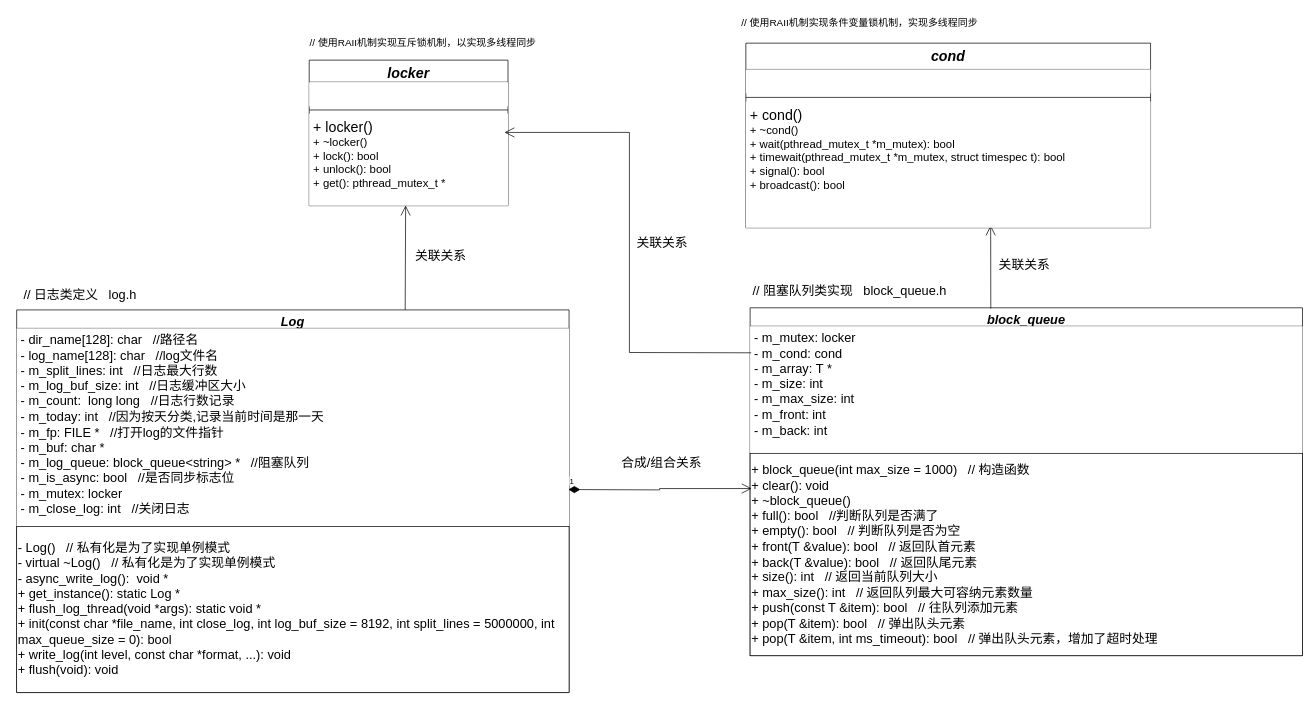
This 1315x705 diagram has some shape labels left out. Here are the shapes that lost their labels. From the top down, the box of each, then its label:
(309, 82, 508, 106): - m_mutex: pthread_mutex_t
(746, 69, 1150, 93): - m_cond: pthread_cond_t
